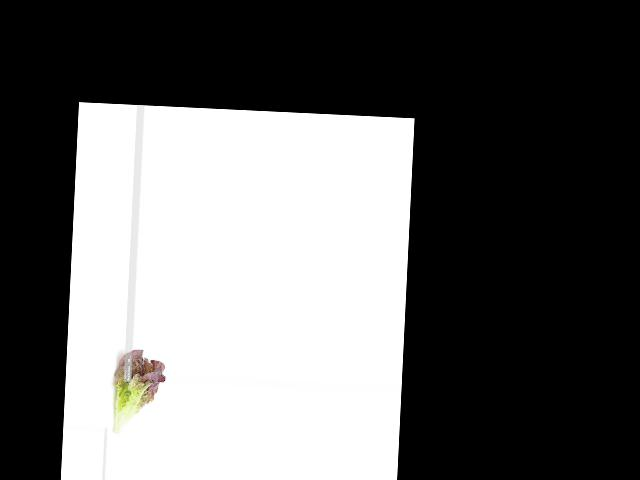lettuce: (107, 346, 167, 439)
